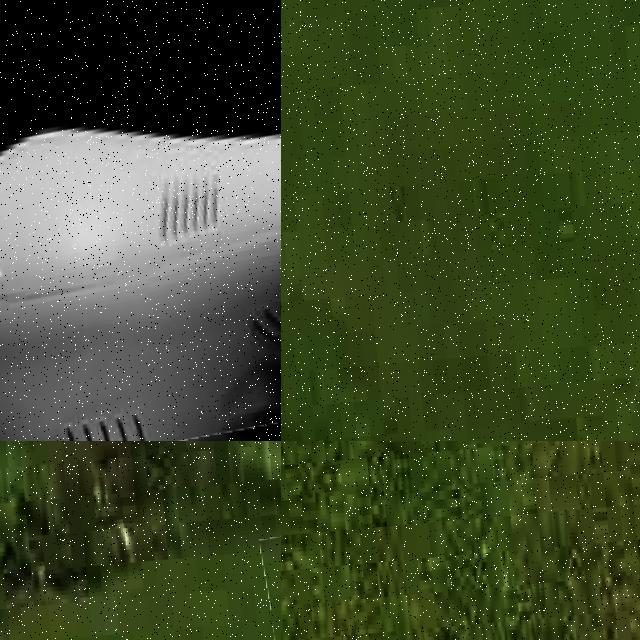drone: (0, 0, 281, 441)
